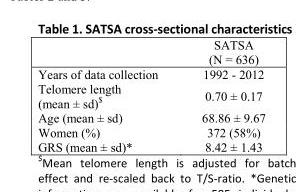table: (37, 37, 264, 153)
table column: (37, 37, 179, 153), (179, 37, 264, 153)
table column header: (37, 37, 264, 66)
table row: (37, 37, 264, 66), (37, 81, 264, 110), (37, 66, 264, 81), (37, 124, 264, 139), (37, 110, 264, 124), (37, 139, 264, 153)
